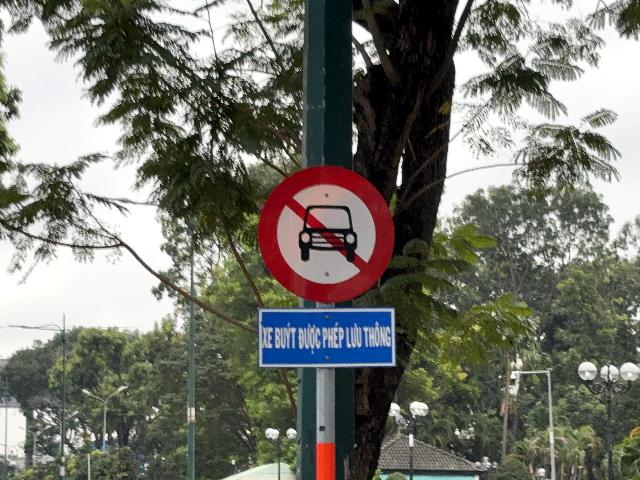cam-o-to: (257, 165, 396, 303)
